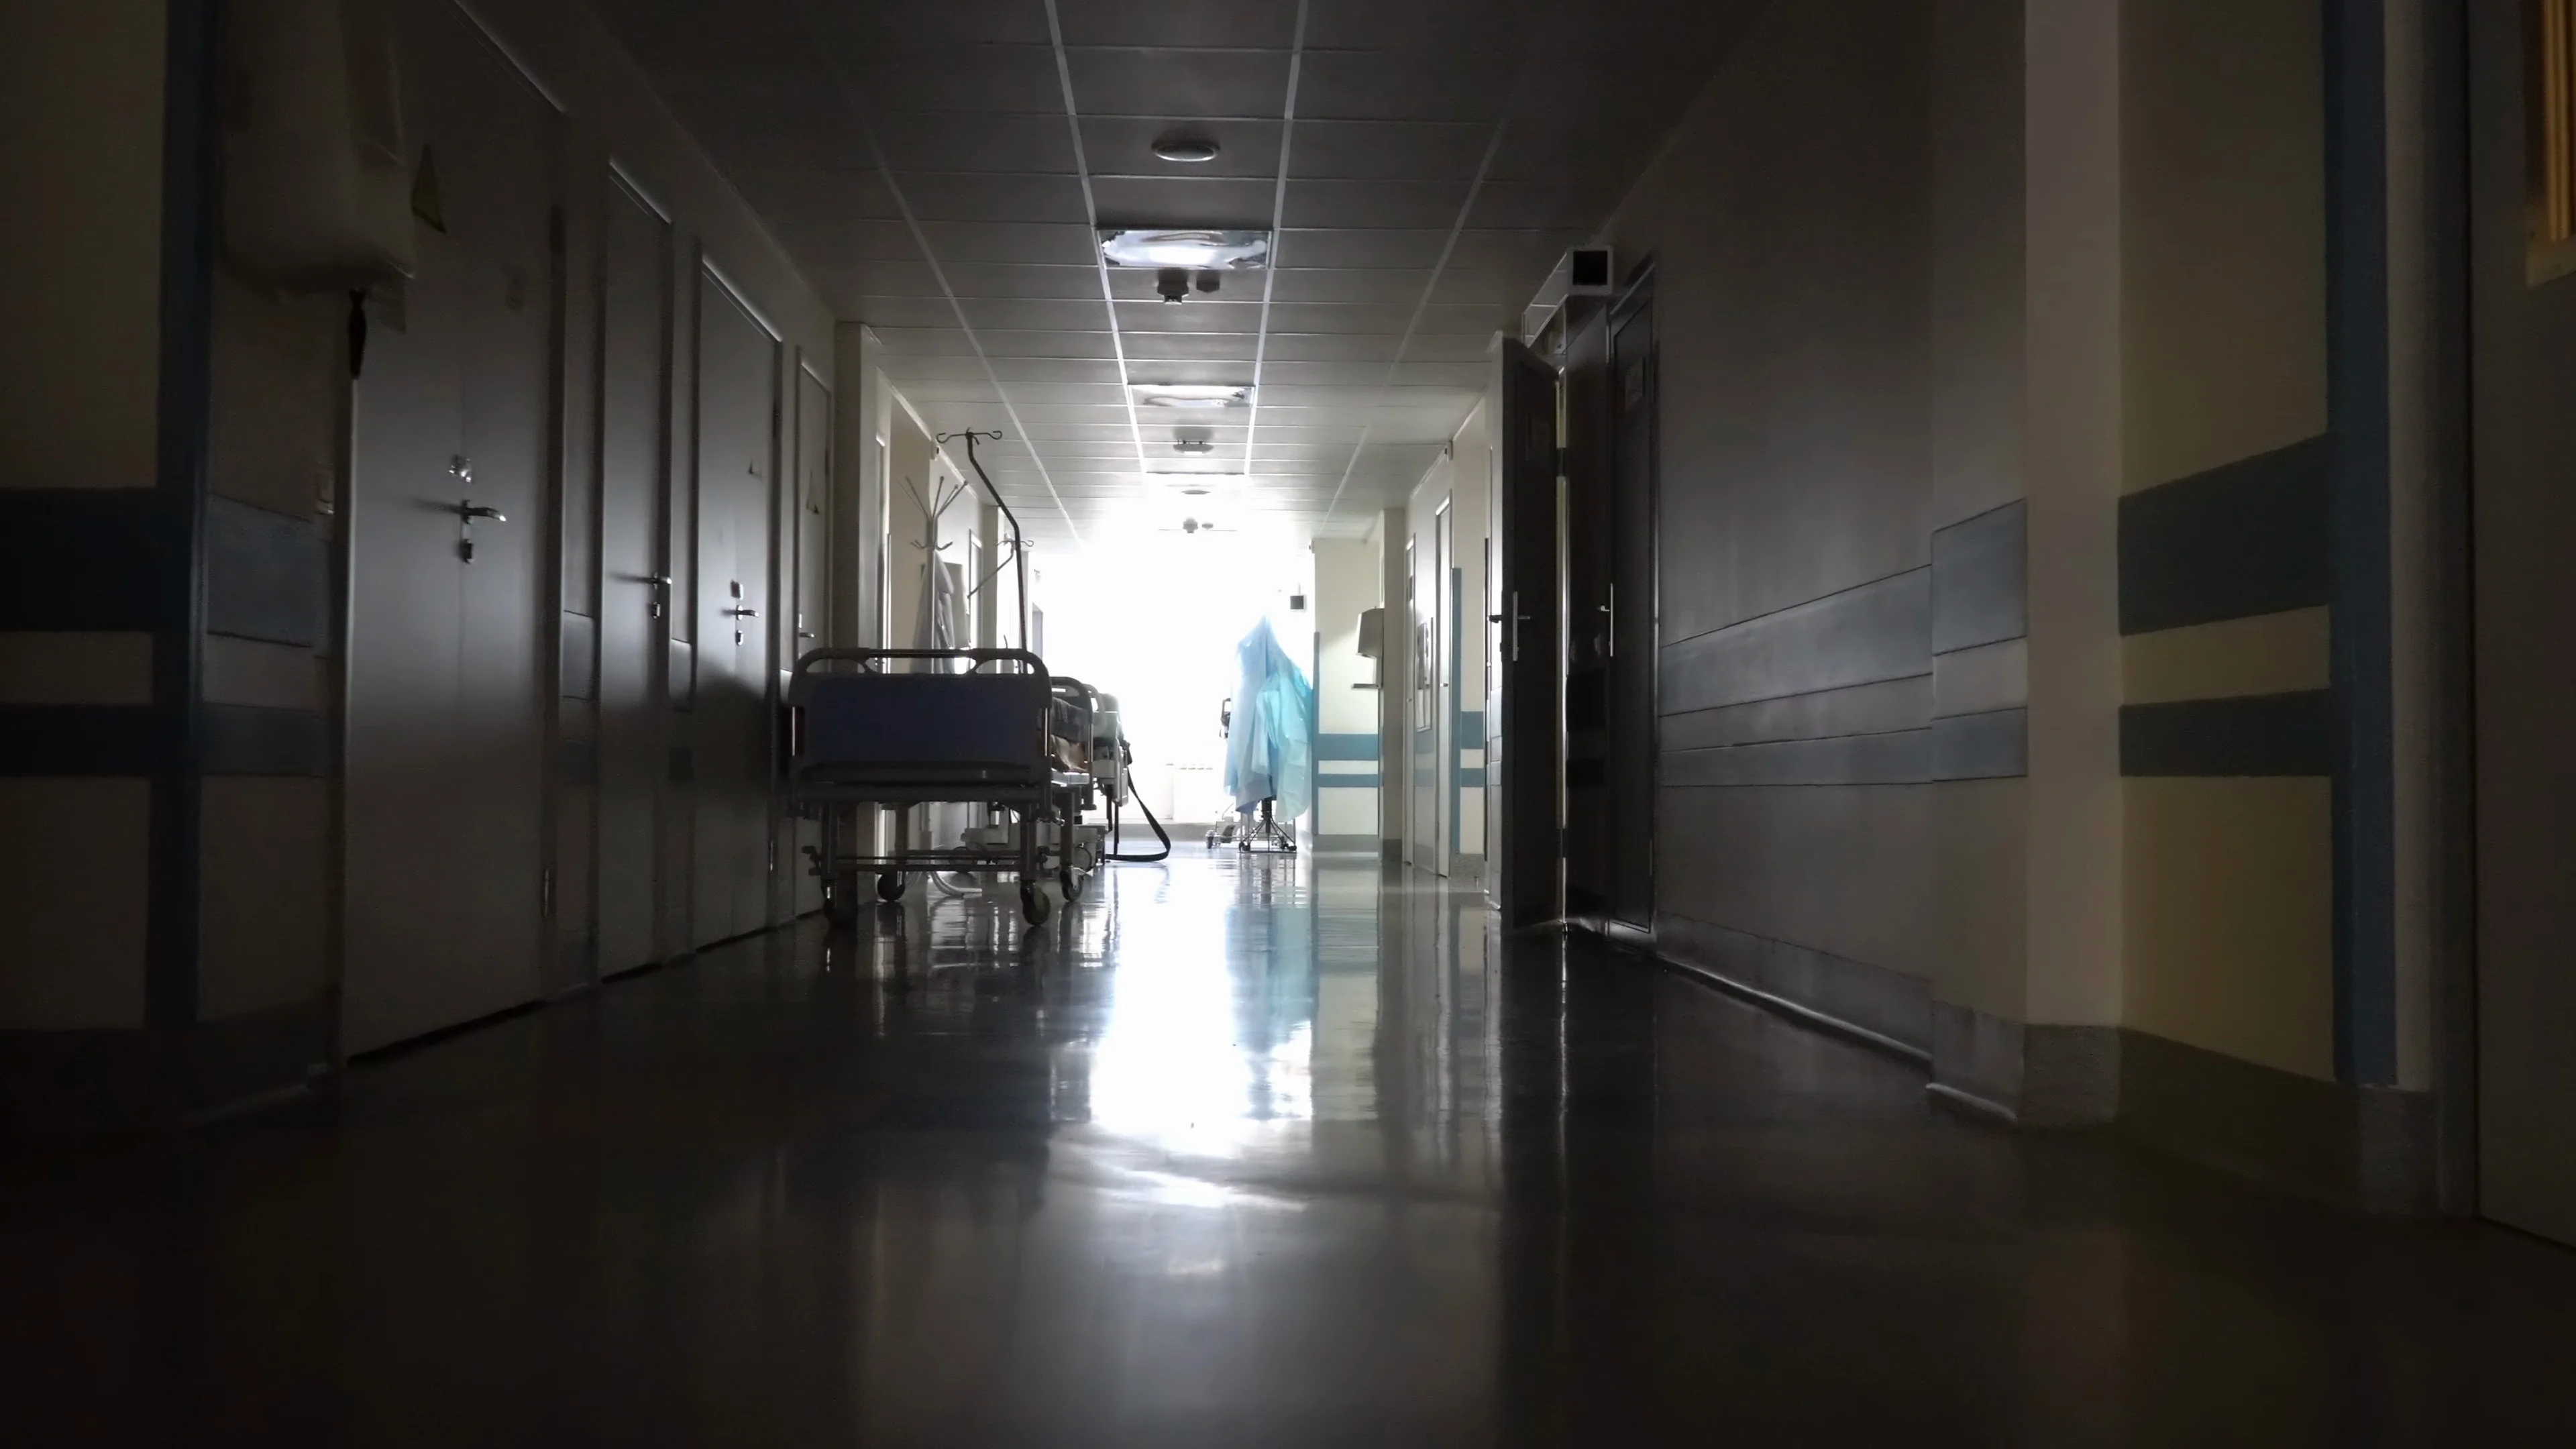door_handle: (455, 494, 504, 534), (1596, 580, 1617, 656), (1513, 591, 1529, 663), (1488, 598, 1502, 630), (738, 605, 759, 625), (653, 575, 678, 587), (798, 630, 817, 642)
foot_board: (803, 642, 1058, 778)
hospital_bed: (793, 642, 1088, 911)
